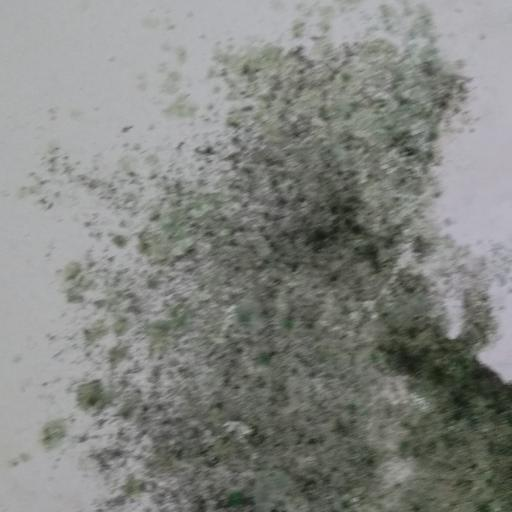algae: (84, 44, 493, 512)
